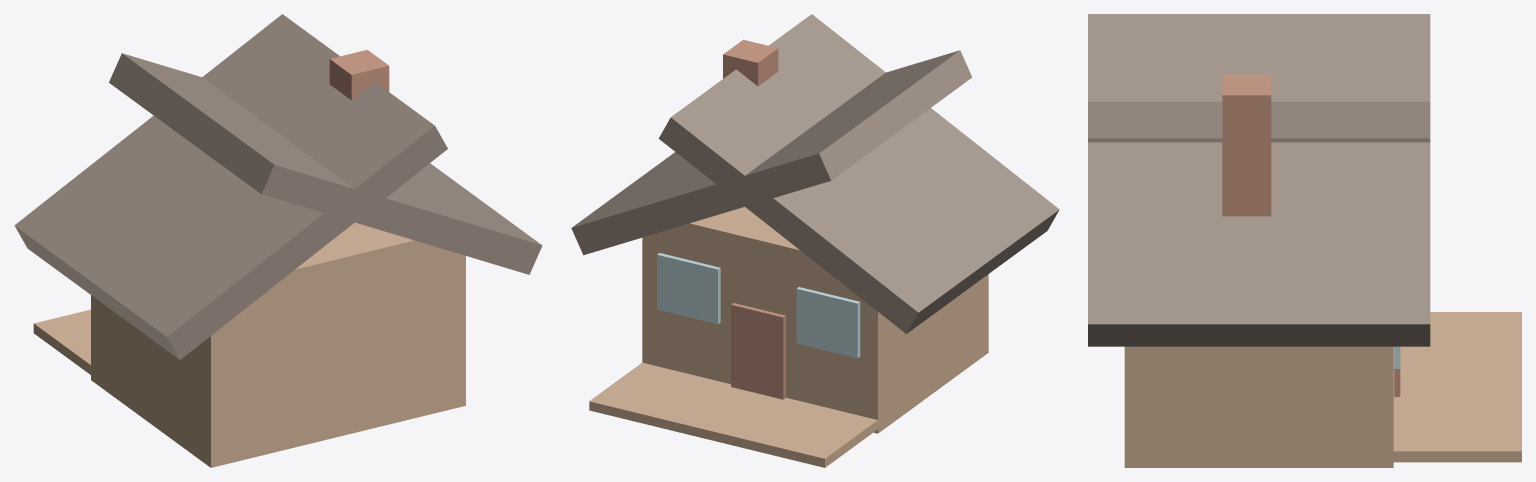
Rendered from oak_cottage.glb.
3 renders of one model, left to right at view 1: azimuth 30°, elevation 25°; view 2: azimuth 150°, elevation 25°; view 3: azimuth 270°, elevation 25°, orthographic. The views are drawn at different scales.
Parts seen in each view (by area): view 1: oak_cottage_roof, oak_cottage_wood, oak_cottage_red; view 2: oak_cottage_roof, oak_cottage_wood, oak_cottage_glass, oak_cottage_red; view 3: oak_cottage_roof, oak_cottage_wood, oak_cottage_red.
Boxes of the visible parts, x1,y1,x2,y2 form: oak_cottage_roof: (14,14,542,359); oak_cottage_wood: (33,222,465,467); oak_cottage_red: (329,50,389,100); oak_cottage_roof: (571,14,1059,333); oak_cottage_wood: (589,207,988,467); oak_cottage_glass: (657,253,860,358); oak_cottage_red: (723,39,785,399); oak_cottage_roof: (1088,14,1430,346); oak_cottage_wood: (1124,312,1521,467); oak_cottage_red: (1222,74,1400,396).
Bounding box in the file's own units: 39.77 × 32.5 × 35.5.
